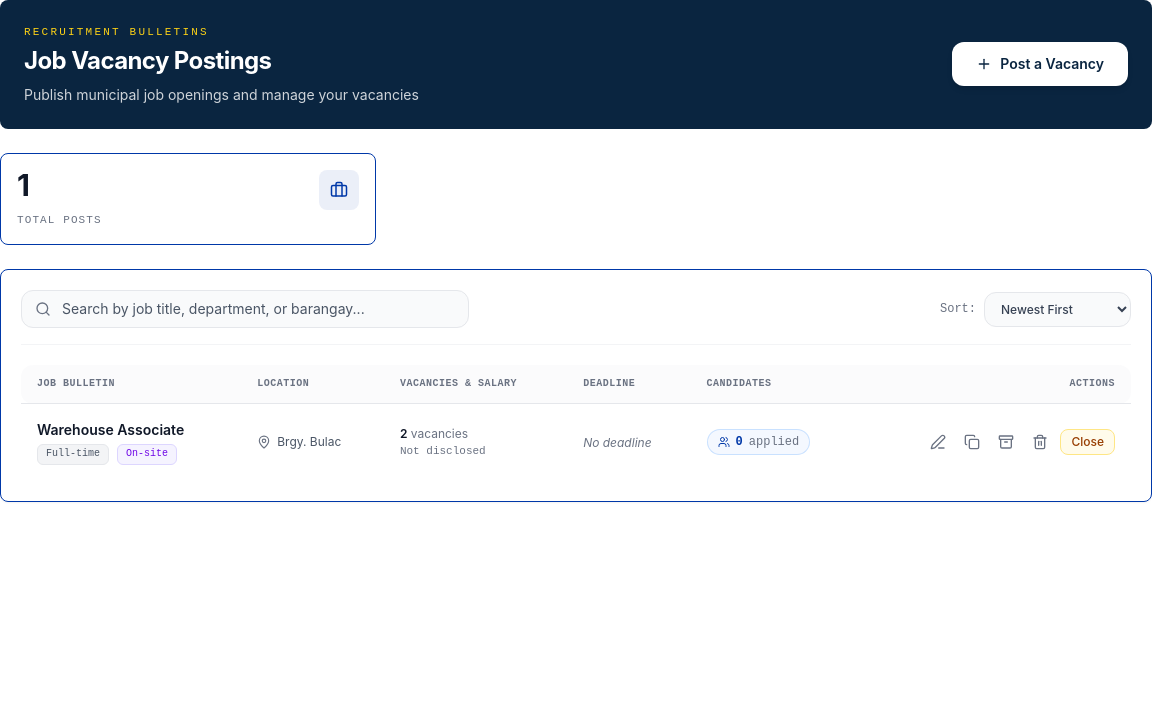
Test: JobPosts delete action › omits the application count when there are none
The width and height of the screenshot is (1152, 720).
Click the button named "delete posting permanently" at x=1040, y=442, box [1026,428,1054,456]
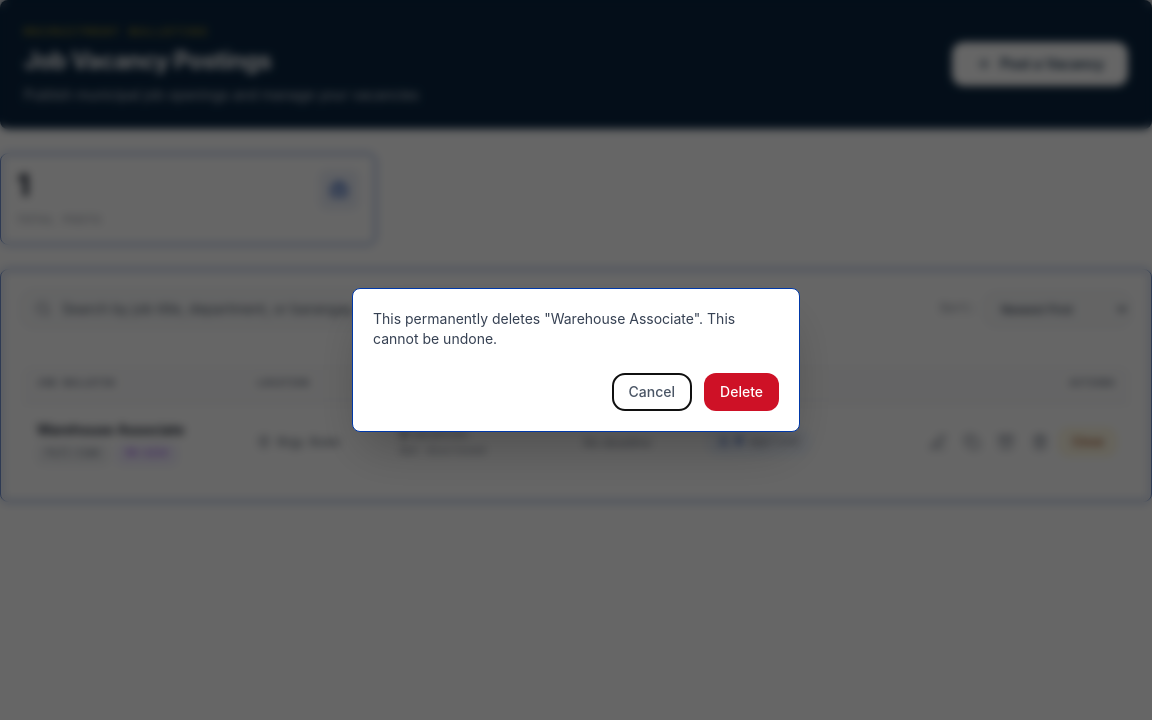
Now the text "This permanently deletes \"Warehouse Associate\". This cannot be undone." is shown, box [373,309,779,349]
